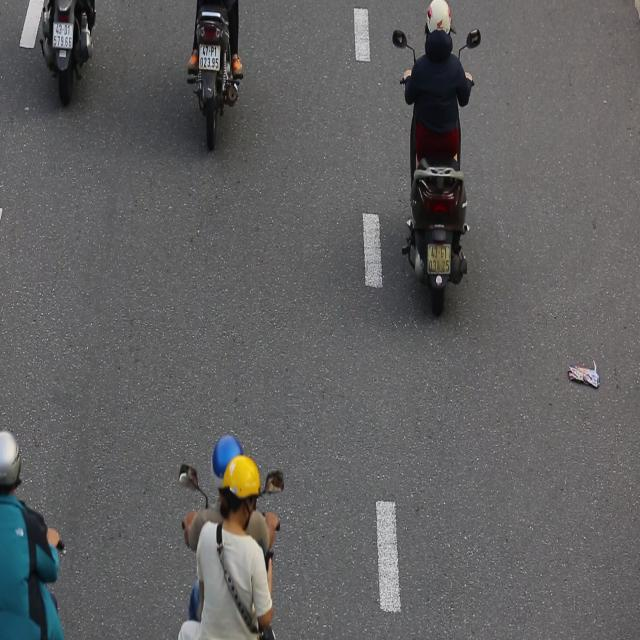motorbike: (382, 0, 492, 339)
